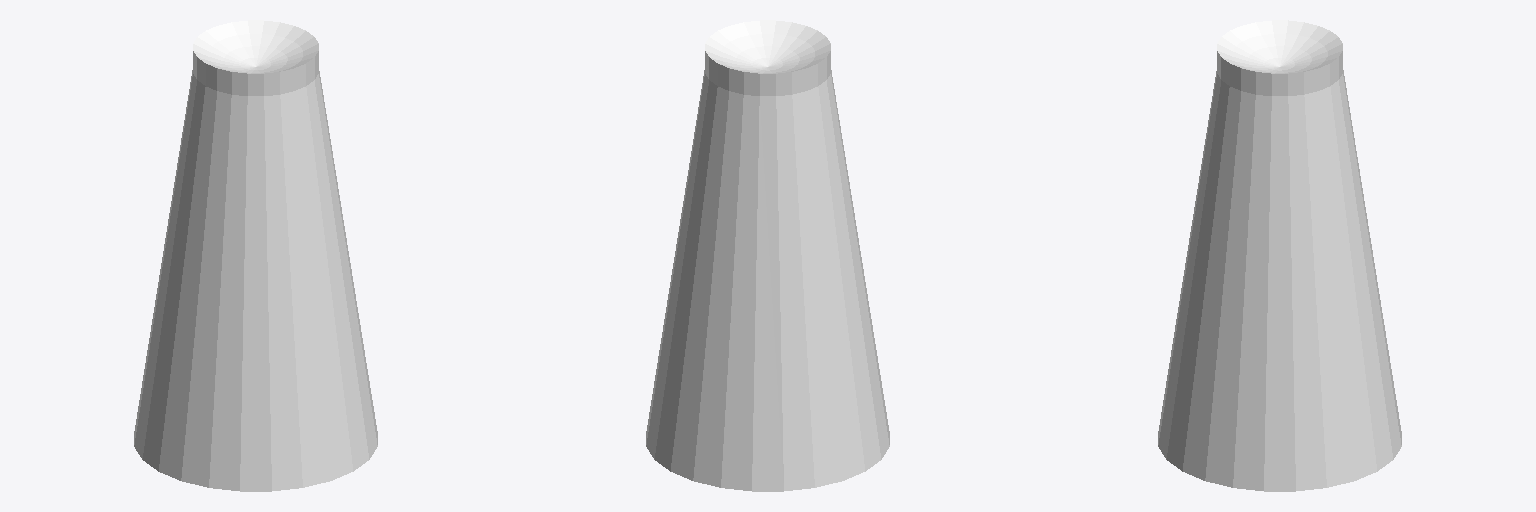
robot.urdf — cup_0004.urdf:
<?xml version="1.0" ?>
<robot name="cup_0004.urdf">
  <link name="baseLink">
    <contact>
      <lateral_friction value="1.0"/>
      <inertia_scaling value="1.0"/>
    </contact>
    <inertial>
      <origin rpy="0 0 0" xyz="0 0 0"/>
       <mass value="0"/>
       <inertia ixx="0" ixy="0" ixz="0" iyy="0" iyz="0" izz="0"/>
    </inertial>
    <visual>
      <origin rpy="0 0 0" xyz="0 0 0"/>
      <geometry>
				<mesh filename="cup_0004_origin_obbtransform.obj" scale="1 1 1"/>
      </geometry>
       <material name="white">
        <color rgba="1 1 1 1"/>
      </material>
    </visual>
    <collision>
      <origin rpy="0 0 0" xyz="0 0 0"/>
      <geometry>
	 	<mesh filename="cup_0004_origin_obbtransform.obj" scale="1 1 1"/>
      </geometry>
    </collision>
  </link>
</robot>

--- Facts derived from the render (not from the file) ---
Views: 3 orthographic renders of the robot side by side, from view 1: azimuth 30°, elevation 25°; view 2: azimuth 150°, elevation 25°; view 3: azimuth 270°, elevation 25°.
Robot: cup_0004.urdf — 1 links, 0 joints (none); root link baseLink; default pose: all joints at 0.
Links seen in each view (by area): view 1: baseLink; view 2: baseLink; view 3: baseLink.
Boxes of the visible links, <box> form: baseLink: <box>134,20,377,491</box>; baseLink: <box>646,20,889,491</box>; baseLink: <box>1158,20,1401,491</box>.
Size in the robot's own frame: 0.0843 by 0.0843 by 0.15 metres.
Meshes: 1 distinct files referenced, 1 mesh visuals loaded (1 OBJ).